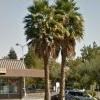Tree: (68, 37, 99, 91)
